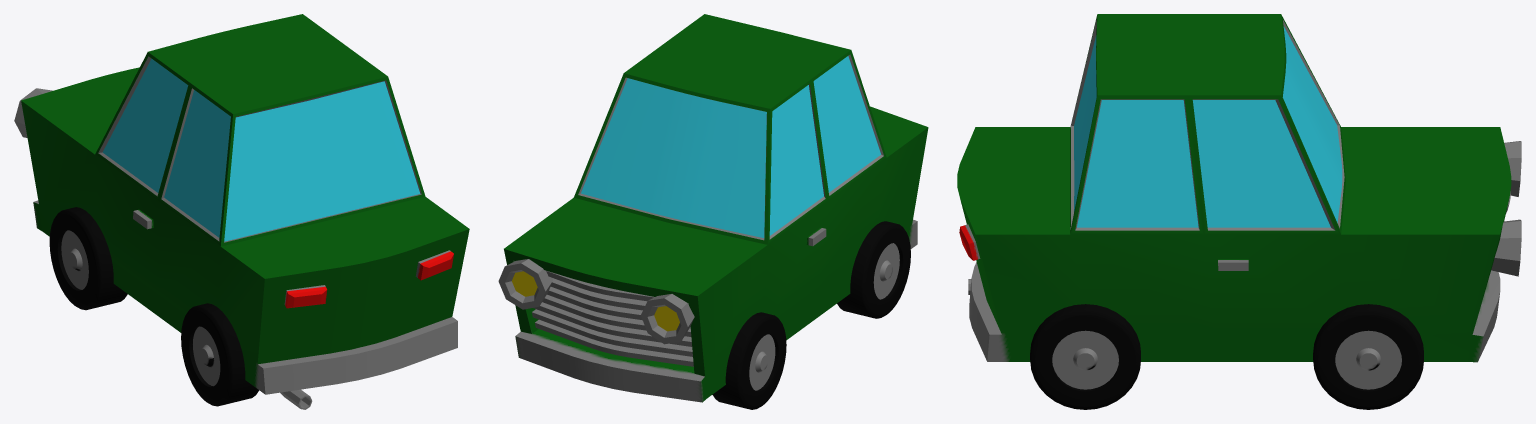
The model's file is green_car.fbx.
3 views of the same model, side by side, from view 1: azimuth 30°, elevation 25°; view 2: azimuth 150°, elevation 25°; view 3: azimuth 270°, elevation 25° (orthographic). The views are drawn at different scales.
Visible parts, largest first — view 1: car.002, Cylinder.001, Cylinder.002, Cube, Circle.003; view 2: car.002, Cube.033, Cylinder.001, Cylinder.002, Circle.003; view 3: car.002, Cylinder.003, Cylinder.004, Circle.003.
Part boxes in pixels (box(x1,y1,x2,y2)): car.002: box(21, 14, 469, 394); Cylinder.001: box(49, 207, 127, 310); Cylinder.002: box(181, 303, 258, 406); Cube: box(284, 250, 453, 308); Circle.003: box(14, 88, 52, 137); car.002: box(504, 14, 928, 402); Cube.033: box(532, 270, 693, 366); Cylinder.001: box(712, 312, 786, 409); Cylinder.002: box(837, 221, 910, 318); Circle.003: box(498, 259, 694, 344); car.002: box(957, 14, 1511, 362); Cylinder.003: box(1030, 304, 1140, 409); Cylinder.004: box(1313, 304, 1423, 409); Circle.003: box(1491, 141, 1521, 276).
Size of the model in its own units: 74.82 by 88.5 by 152.
Materials: 1 (1 with a texture image).
